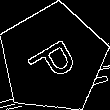P_NE: (22, 30, 84, 87)
